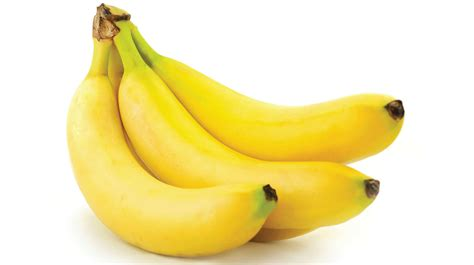banana: (117, 61, 382, 231), (64, 72, 277, 262), (148, 51, 408, 167)
